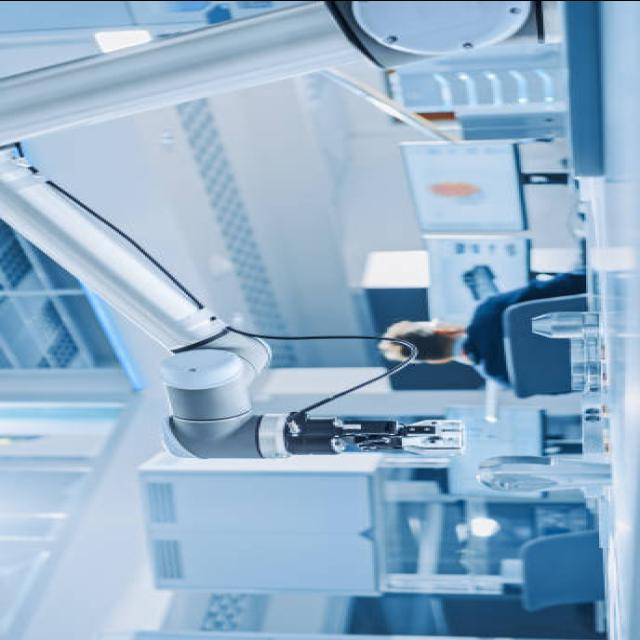Robotic-arm: (0, 0, 562, 466)
